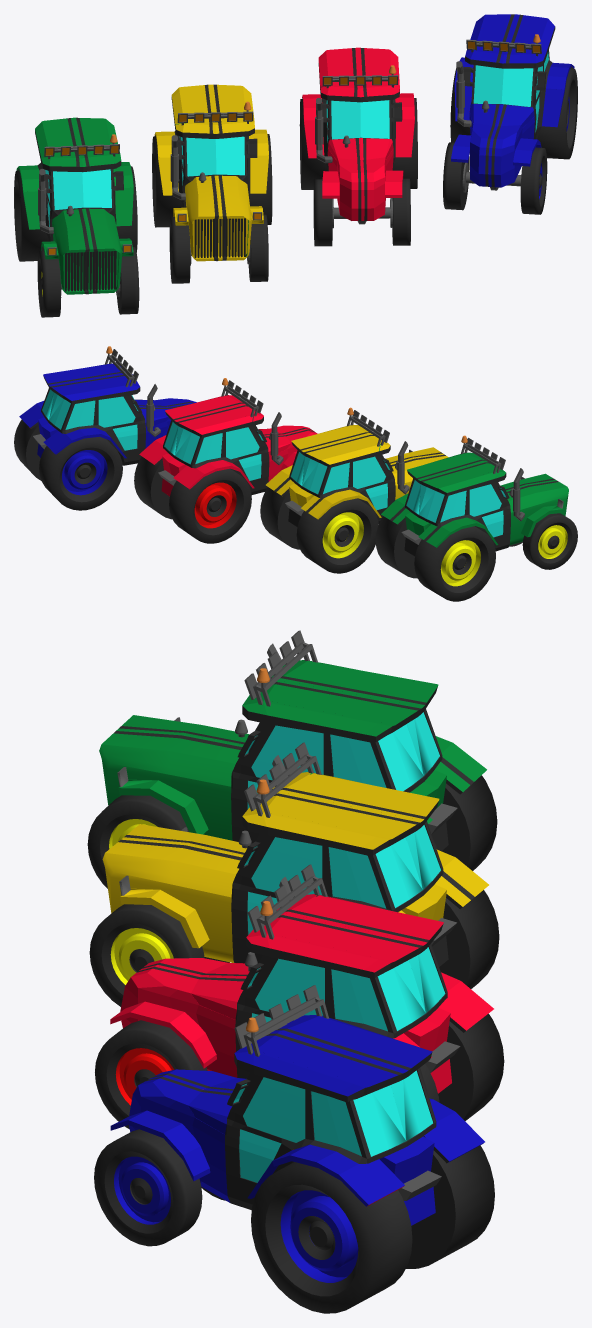
The model's file is farm-tractors.glb.
The picture shows the model from 3 angles, top to bottom: view 1: azimuth 30°, elevation 25°; view 2: azimuth 150°, elevation 25°; view 3: azimuth 270°, elevation 25°; orthographic projection. The views are drawn at different scales.
Size of the model in its own units: 18.36 by 4.28 by 6.5.
